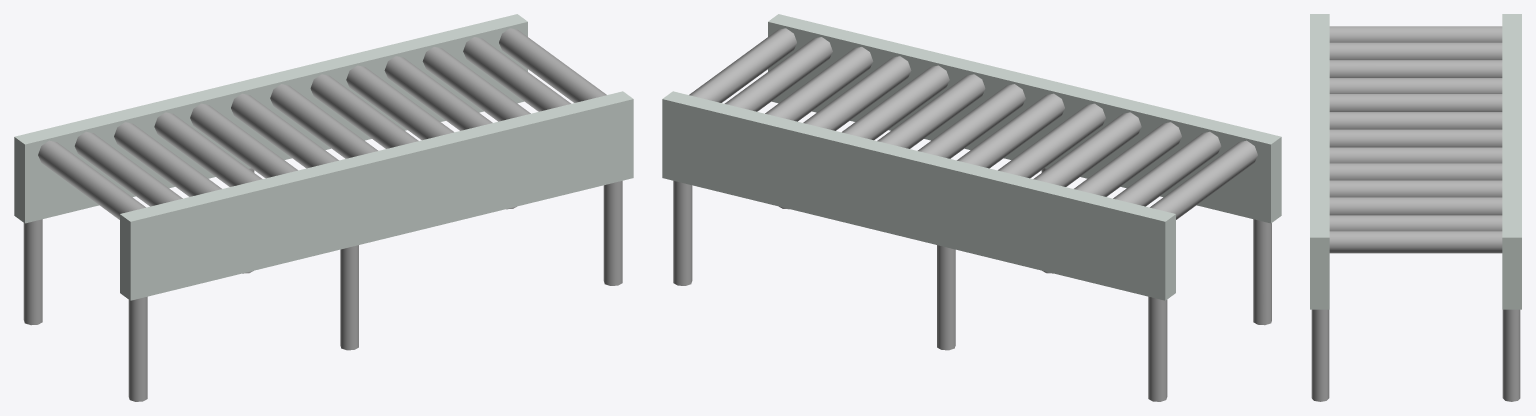
The model's file is SM_Transporter_200.fbx.
3 views of the same model, side by side, from view 1: azimuth 30°, elevation 25°; view 2: azimuth 150°, elevation 25°; view 3: azimuth 270°, elevation 25° (orthographic). The views are drawn at different scales.
Visible parts, largest first — view 1: SM_Transporter_200; view 2: SM_Transporter_200; view 3: SM_Transporter_200.
Boxes of the visible parts, x1,y1,x2,y2 form: SM_Transporter_200: (14,14,633,401); SM_Transporter_200: (662,14,1281,401); SM_Transporter_200: (1310,14,1521,401).
Bounding box in the file's own units: 200 × 69.72 × 80.
